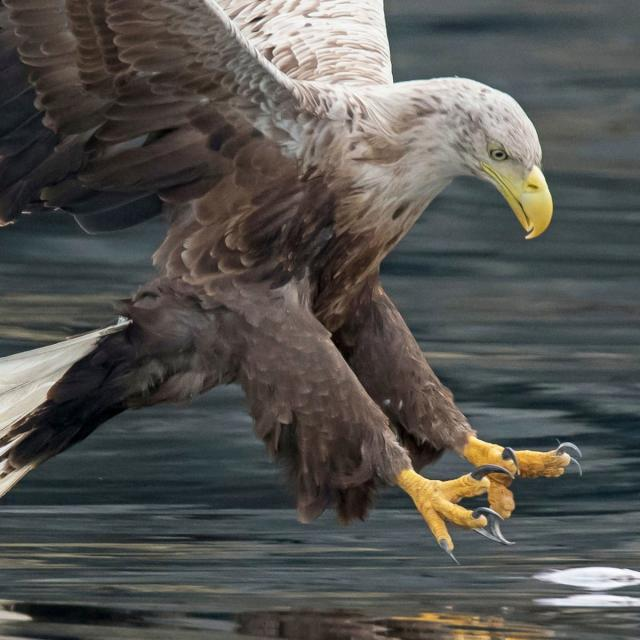eagle: (1, 0, 571, 553)
